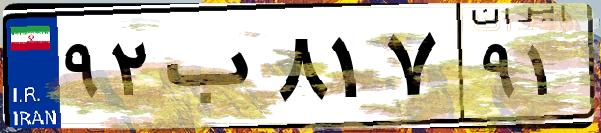1: (330, 28, 385, 110), (525, 38, 570, 115)
2: (110, 28, 158, 98)
7: (385, 28, 445, 110)
8: (270, 28, 330, 110)
9: (57, 26, 110, 100), (475, 38, 525, 113)
ب: (158, 20, 270, 120)
